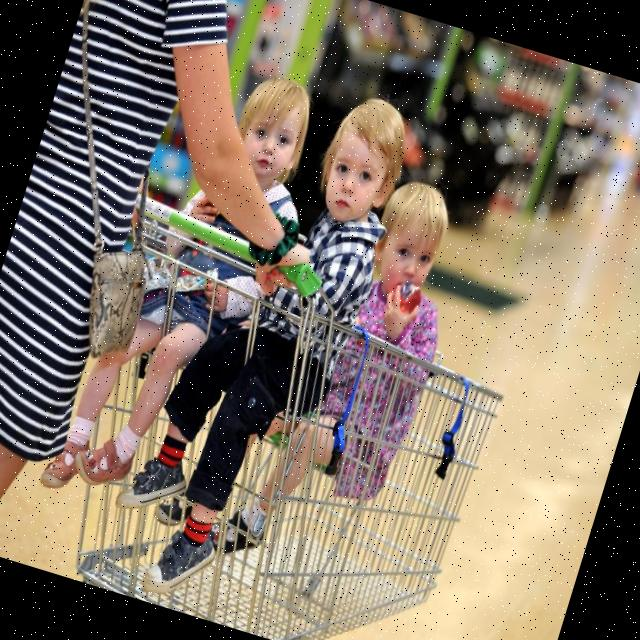Person: (0, 0, 379, 615), (94, 60, 422, 620), (35, 39, 342, 536), (208, 153, 484, 594)
